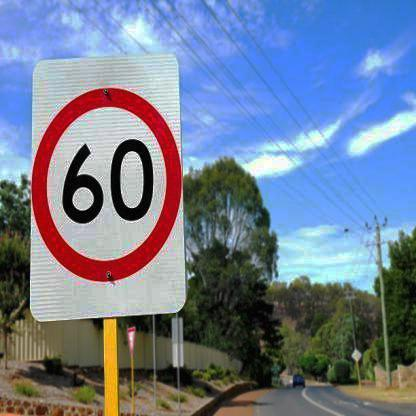Speed Limit -60-: (31, 83, 183, 286)
